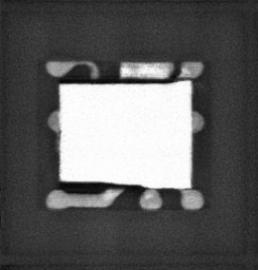DIE_BROKEN: (57, 74, 185, 86), (57, 180, 149, 191)
